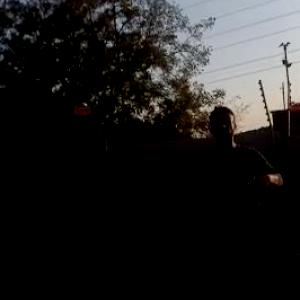follow: (195, 101, 289, 299)
